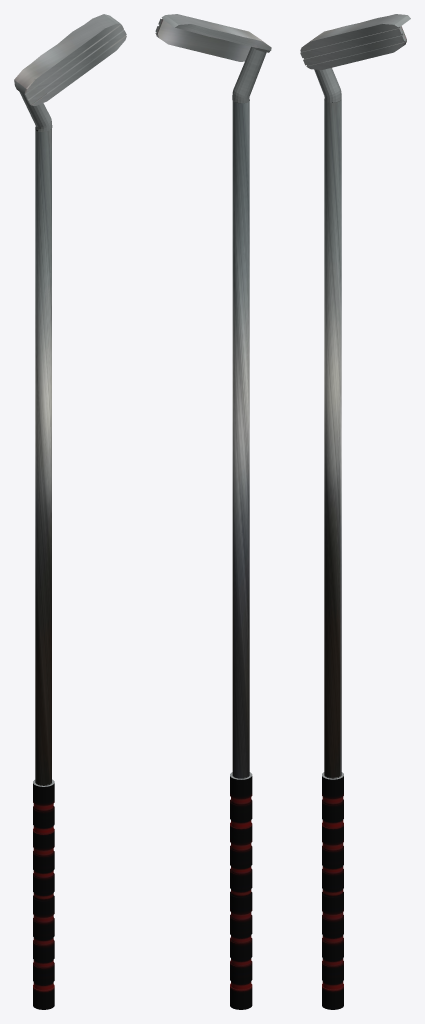
File: putter2.FBX
3 renders of one model, left to right at view 1: azimuth 30°, elevation 25°; view 2: azimuth 210°, elevation 25°; view 3: azimuth 330°, elevation 25°, orthographic. The views are drawn at different scales.
Parts seen in each view (by area): view 1: Box001; view 2: Box001; view 3: Box001.
Part boxes in pixels (<box>): Box001: <box>14,14,126,1009</box>; Box001: <box>155,14,271,1009</box>; Box001: <box>300,14,410,1009</box>.
Bounding box in the file's own units: 35.96 × 328 × 8.7.
